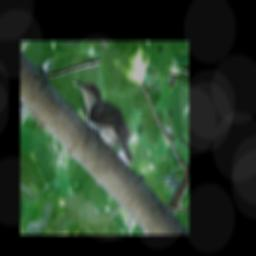Cuckoo: (73, 80, 135, 165)
